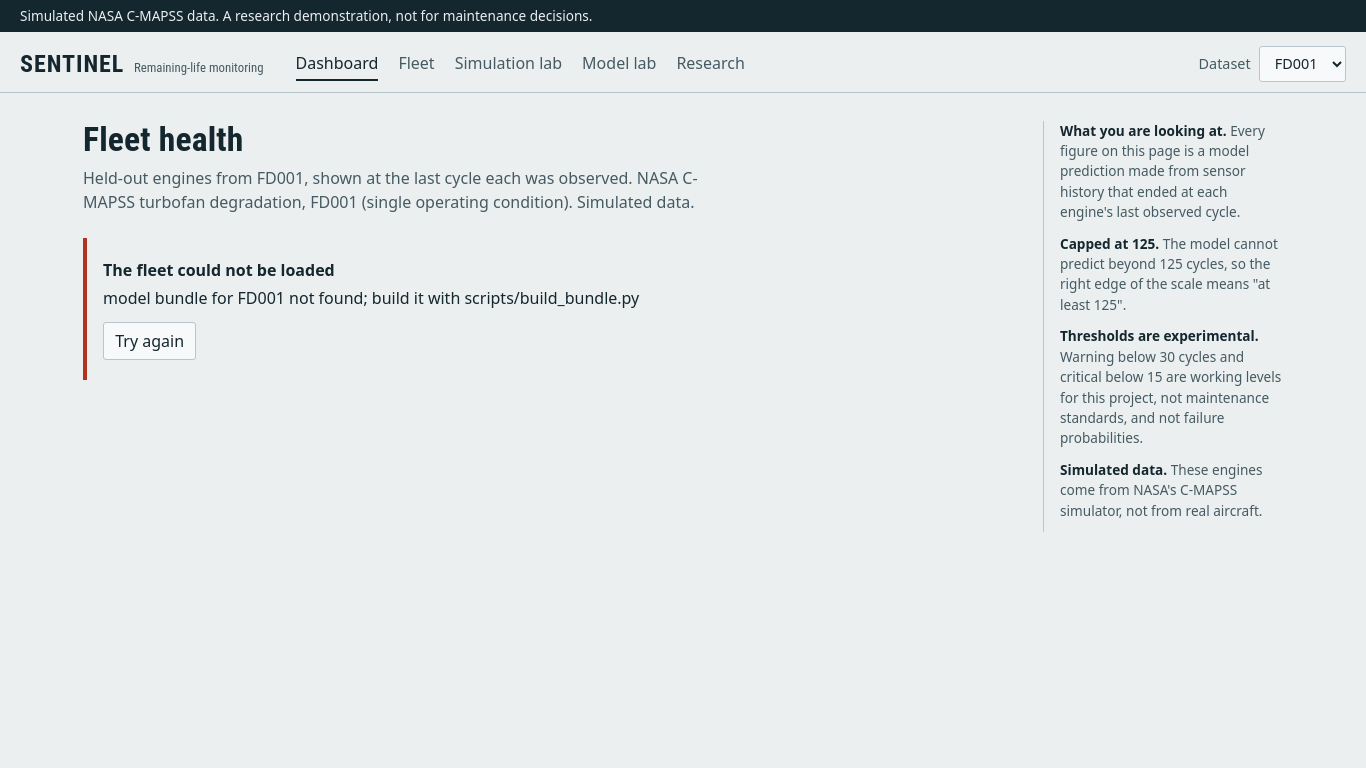
Test: dashboard › shows the server's message and retries after a failure
The image size is (1366, 768).
Expected: the message shows "The fleet could not be loaded", [103,259,335,281]
Expected: the message shows "scripts/build_bundle.py", [103,287,639,309]
Click the button "Try again": {"x": 150, "y": 341} [103,322,196,360]
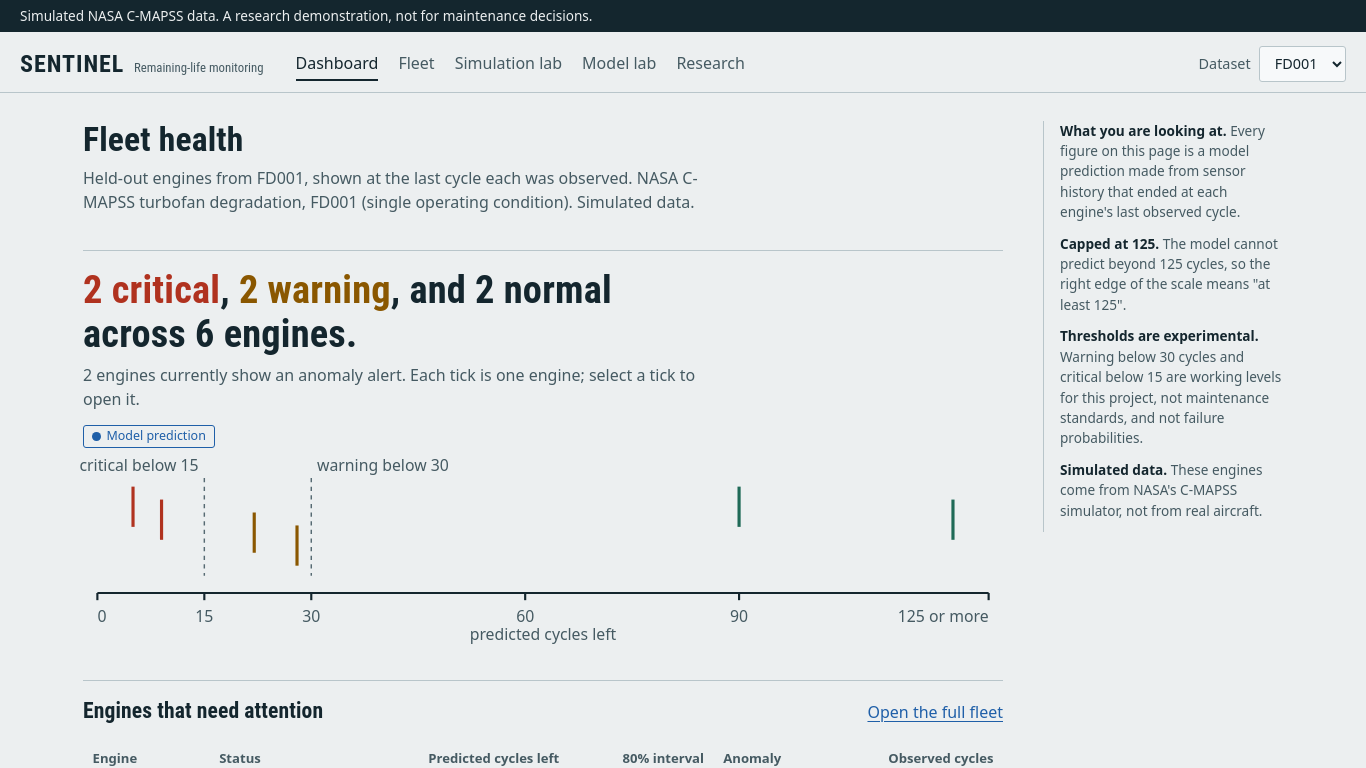
Expected: the text "2 critical" is shown, [83,267,220,312]
